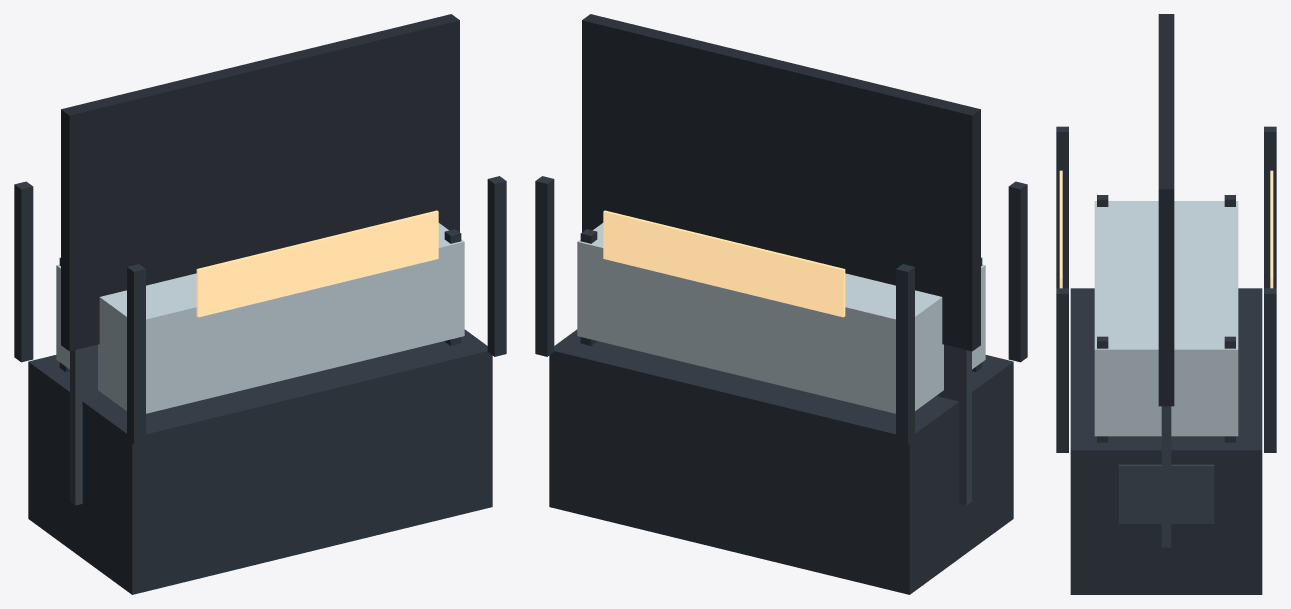
File: concourse-kiosk.glb
3 renders of one model, left to right at view 1: azimuth 30°, elevation 25°; view 2: azimuth 150°, elevation 25°; view 3: azimuth 270°, elevation 25°, orthographic. The views are drawn at different scales.
Parts seen in each view (by area): view 1: base, canopy, case, signf, roofpost.002, roofpost.001, roofpost, counter; view 2: base, canopy, case, signb, roofpost.003, roofpost, roofpost.001, counter; view 3: base, case, canopy, menuside, roofpost.002, roofpost.003, roofpost, roofpost.001, counter, signf, signb.
Boxes of the visible parts, box(x1,y1,x2,y2) form: base: box(28, 329, 492, 594); canopy: box(61, 14, 459, 351); case: box(56, 223, 464, 413); signf: box(196, 210, 438, 317); roofpost.002: box(487, 176, 506, 356); roofpost.001: box(14, 181, 33, 362); roofpost: box(127, 264, 145, 444); counter: box(70, 344, 105, 505); base: box(549, 329, 1013, 594); canopy: box(582, 14, 980, 351); case: box(577, 223, 985, 413); signb: box(603, 210, 845, 317); roofpost.003: box(535, 176, 554, 356); roofpost: box(1008, 181, 1027, 362); roofpost.001: box(896, 264, 914, 444); counter: box(936, 344, 971, 505); base: box(1070, 288, 1262, 594); case: box(1094, 201, 1238, 436); canopy: box(1158, 14, 1174, 406); menuside: box(1118, 464, 1214, 523); roofpost.002: box(1056, 288, 1068, 452); roofpost.003: box(1264, 288, 1276, 452); roofpost: box(1056, 126, 1068, 288); roofpost.001: box(1264, 126, 1276, 288); counter: box(1161, 406, 1171, 547); signf: box(1059, 170, 1062, 288); signb: box(1270, 170, 1273, 288).
Bounding box in the file's own units: 2.6 × 2.85 × 1.38.
